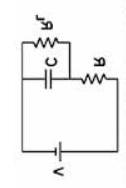Capacitor: (35, 66, 56, 89)
